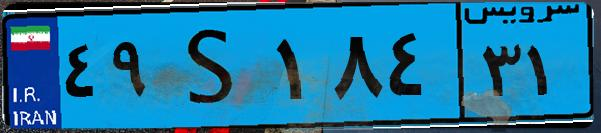1: (270, 28, 330, 110), (525, 38, 570, 115)
3: (475, 38, 525, 113)
4: (385, 28, 445, 110), (57, 26, 110, 100)
8: (330, 28, 385, 110)
9: (110, 28, 158, 98)
S: (158, 12, 270, 120)
